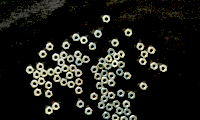nut: (26, 67, 35, 75), (33, 71, 41, 80), (46, 43, 54, 52), (53, 75, 62, 83), (67, 55, 75, 64), (80, 37, 89, 45), (160, 65, 168, 74), (31, 80, 39, 88), (34, 89, 42, 97), (37, 63, 45, 71), (38, 78, 46, 86), (45, 82, 53, 90), (45, 107, 53, 115), (52, 103, 60, 111), (45, 91, 53, 99), (52, 54, 60, 62), (60, 79, 68, 87), (60, 52, 68, 60), (63, 42, 71, 50), (73, 34, 81, 42), (70, 65, 78, 73), (66, 72, 74, 80), (68, 81, 76, 89), (74, 51, 82, 59), (75, 70, 83, 78), (75, 87, 83, 95), (83, 56, 91, 64), (89, 43, 97, 51), (103, 15, 111, 23), (77, 101, 85, 109), (85, 108, 93, 116), (91, 66, 99, 74), (94, 73, 102, 81), (101, 70, 109, 78), (105, 55, 113, 63), (108, 49, 116, 57), (112, 39, 120, 47), (125, 29, 133, 37), (103, 112, 111, 120), (98, 102, 106, 110), (106, 104, 114, 112), (108, 92, 116, 100), (116, 108, 124, 116), (113, 101, 121, 109), (124, 109, 132, 117), (123, 101, 131, 109), (128, 92, 136, 100), (113, 53, 121, 61), (116, 69, 124, 77), (124, 73, 132, 81), (140, 83, 148, 91), (141, 51, 149, 59), (137, 43, 145, 51), (148, 47, 156, 55), (151, 63, 159, 71), (39, 51, 48, 58), (75, 59, 84, 66), (76, 78, 83, 87), (94, 31, 103, 38), (112, 60, 119, 69), (139, 59, 148, 66), (41, 70, 48, 78), (48, 69, 55, 77), (55, 67, 62, 75), (58, 59, 65, 67), (62, 65, 69, 73), (91, 93, 98, 101), (97, 63, 105, 70), (99, 58, 107, 65), (101, 78, 109, 85), (96, 83, 104, 90), (105, 63, 112, 71), (101, 89, 109, 96), (101, 96, 108, 104), (108, 80, 116, 87), (108, 73, 116, 80), (118, 90, 125, 98), (118, 51, 125, 59), (118, 61, 125, 69), (112, 115, 120, 120), (120, 116, 128, 120), (130, 116, 137, 120)
